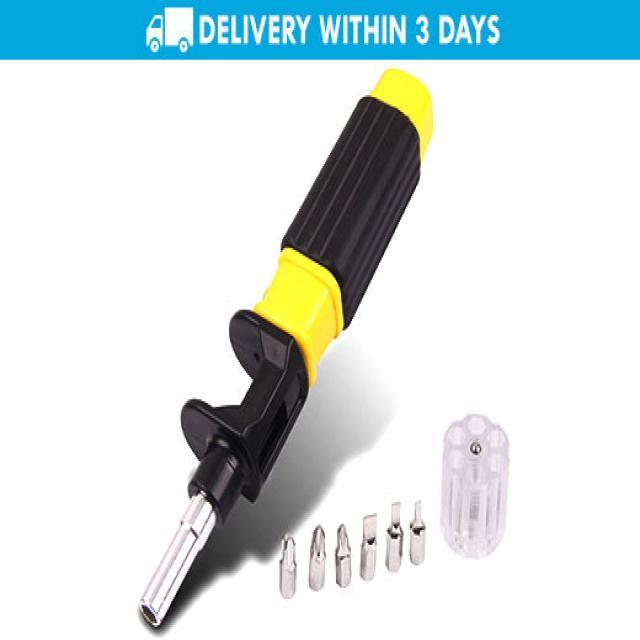screwdriver: (134, 66, 438, 632)
